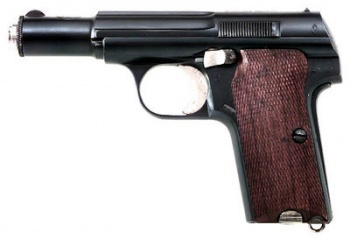gun: (6, 5, 344, 236)
